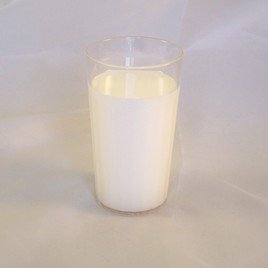glass of milk: (82, 32, 172, 218)
